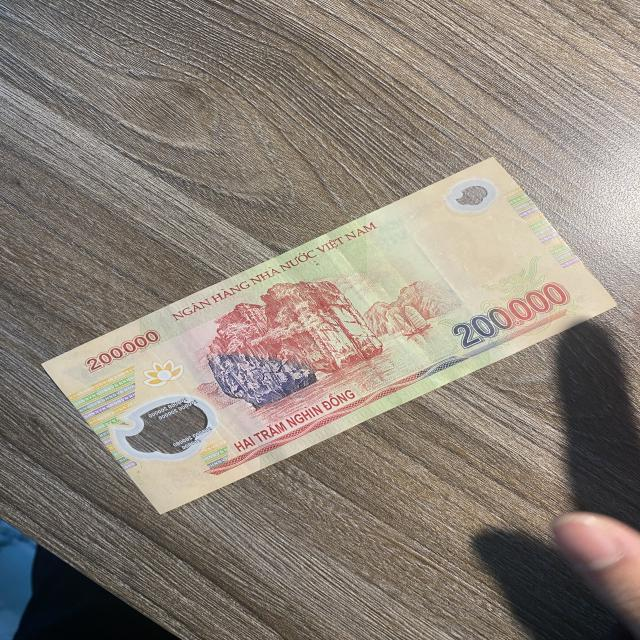200 000 VND: (41, 154, 622, 516)
